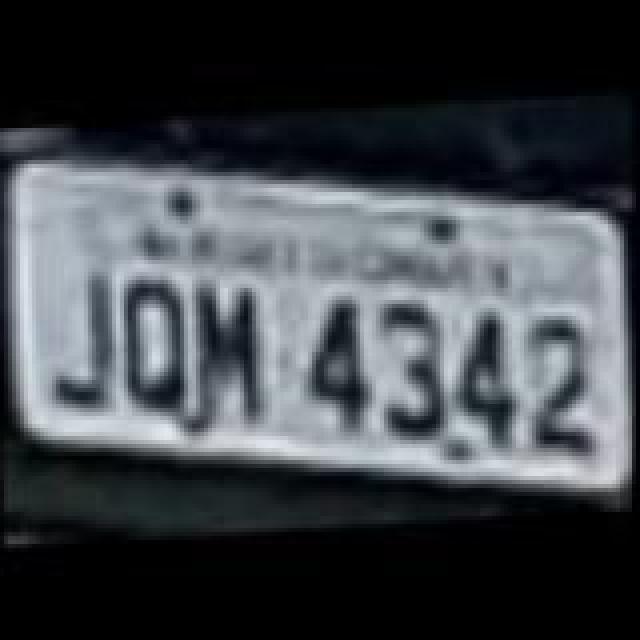2: (524, 312, 600, 456)
3: (368, 296, 456, 448)
4: (446, 300, 526, 452), (298, 290, 374, 442)
J: (48, 268, 128, 412)
M: (190, 278, 266, 434)
Q: (118, 274, 194, 418)
